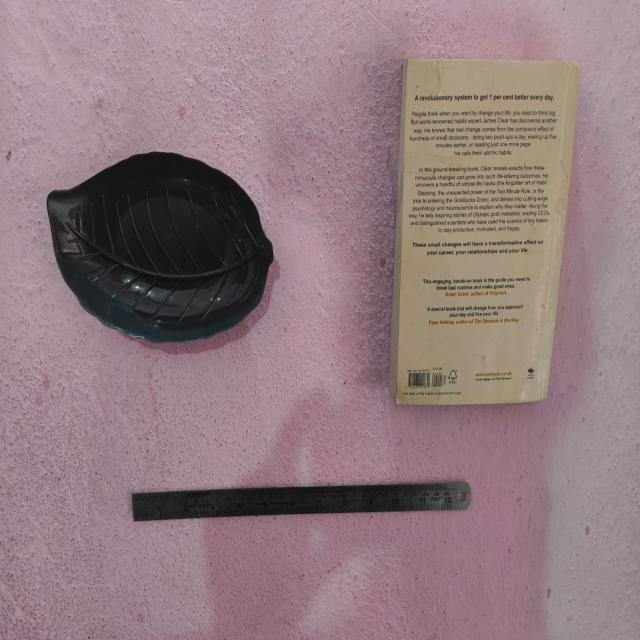Book: (390, 49, 584, 411)
pen: (47, 150, 279, 344)
plate: (130, 477, 478, 528)
